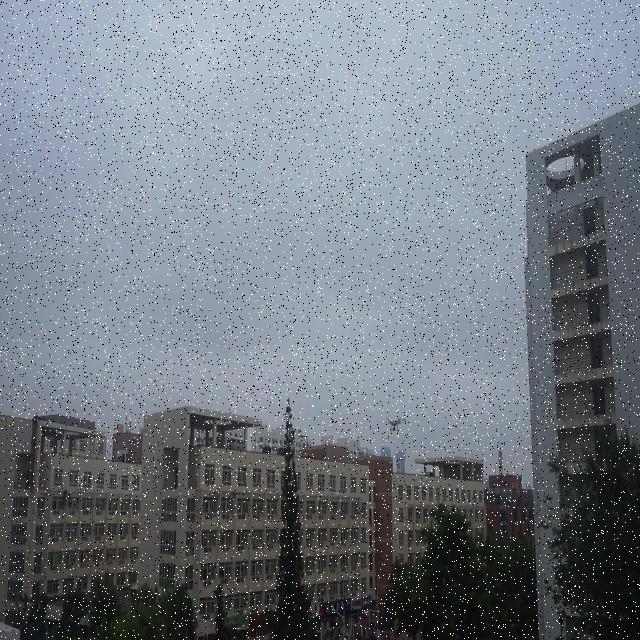UAV: (385, 417, 405, 433)
